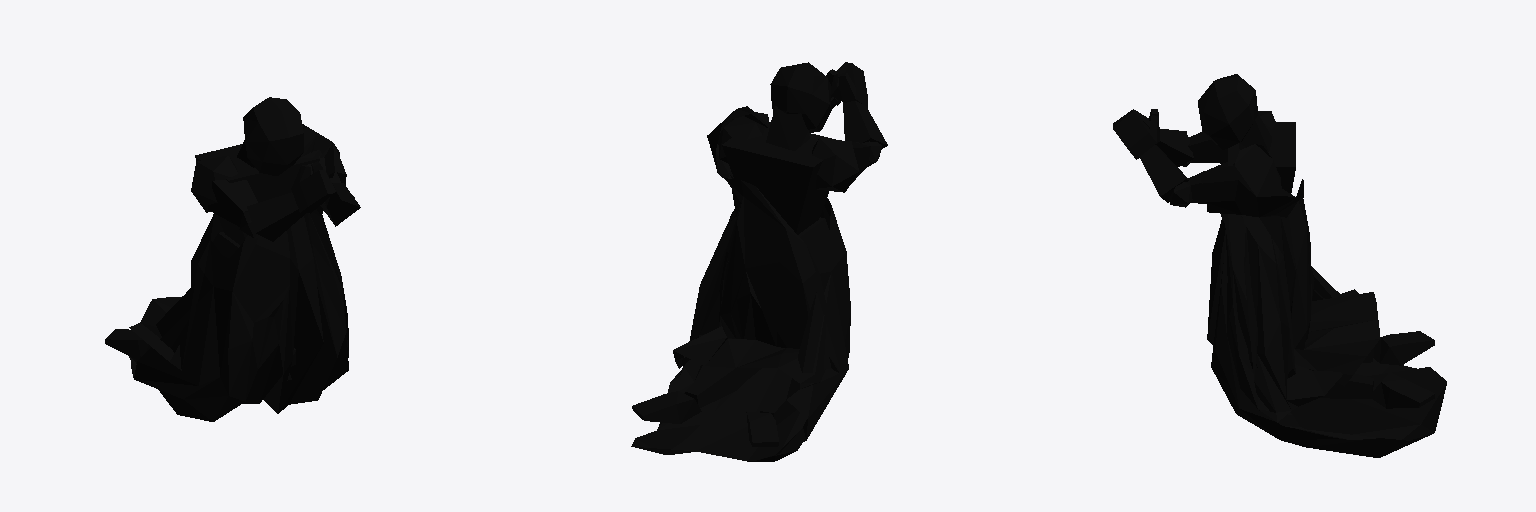
The model's file is Statue4.obj.
The picture shows the model from 3 angles: view 1: azimuth 30°, elevation 25°; view 2: azimuth 150°, elevation 25°; view 3: azimuth 270°, elevation 25°; orthographic projection.
Parts seen in each view (by area): view 1: Statue4_Cube.016; view 2: Statue4_Cube.016; view 3: Statue4_Cube.016.
Boxes of the visible parts, x1=… form: Statue4_Cube.016: x1=105, y1=97, x2=360, y2=421; Statue4_Cube.016: x1=631, y1=62, x2=887, y2=461; Statue4_Cube.016: x1=1113, y1=74, x2=1446, y2=457.
Bounding box in the file's own units: 0.8504 × 1.59 × 1.37.